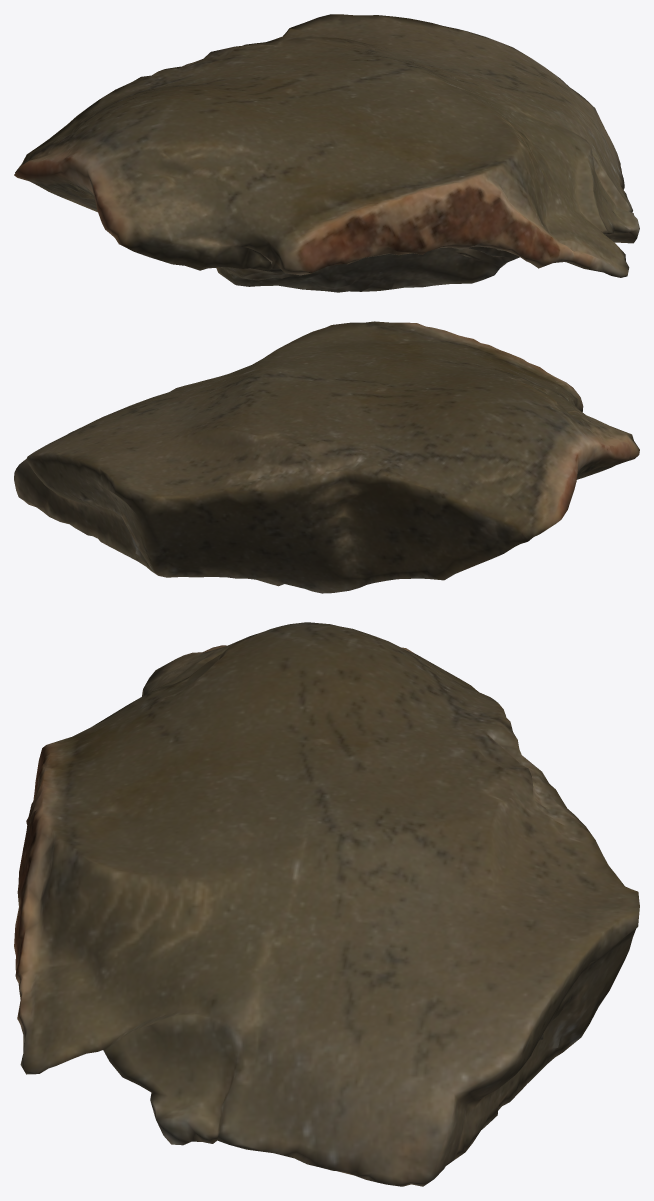
Rendered from stone_d.gltf.
3 views of the same model, one above another, from view 1: azimuth 30°, elevation 25°; view 2: azimuth 150°, elevation 25°; view 3: azimuth 270°, elevation 25° (orthographic). The views are drawn at different scales.
Visible parts, largest first — view 1: namaqualand_stones_01_d; view 2: namaqualand_stones_01_d; view 3: namaqualand_stones_01_d.
Part boxes in pixels (x1,y1,x2,y2): namaqualand_stones_01_d: (14, 14, 639, 292); namaqualand_stones_01_d: (14, 321, 639, 593); namaqualand_stones_01_d: (14, 622, 639, 1186).
Bounding box in the file's own units: 0.1146 × 0.0368 × 0.0822.
Materials: 1 (1 with a texture image).
